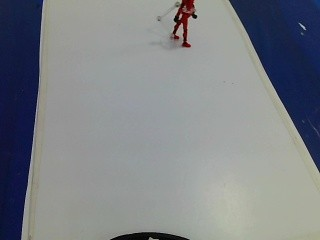pedestrian: (167, 0, 203, 54)
